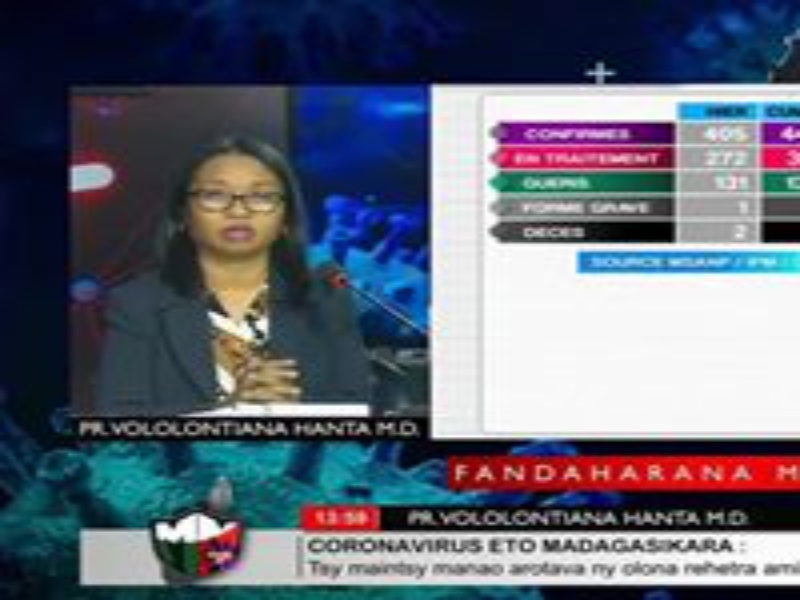TsisyArotava: (176, 139, 301, 267)
